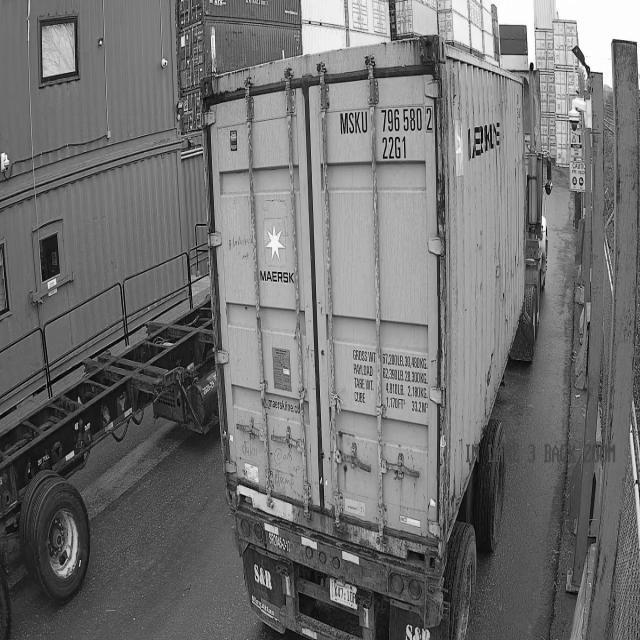container_company_logo: (260, 216, 296, 287)
container_number: (340, 99, 434, 159)
license_plate: (331, 576, 358, 606)
other_container_info: (342, 338, 424, 410)
truck_trailer: (0, 281, 232, 602)
truck_with_container: (218, 38, 552, 639)
